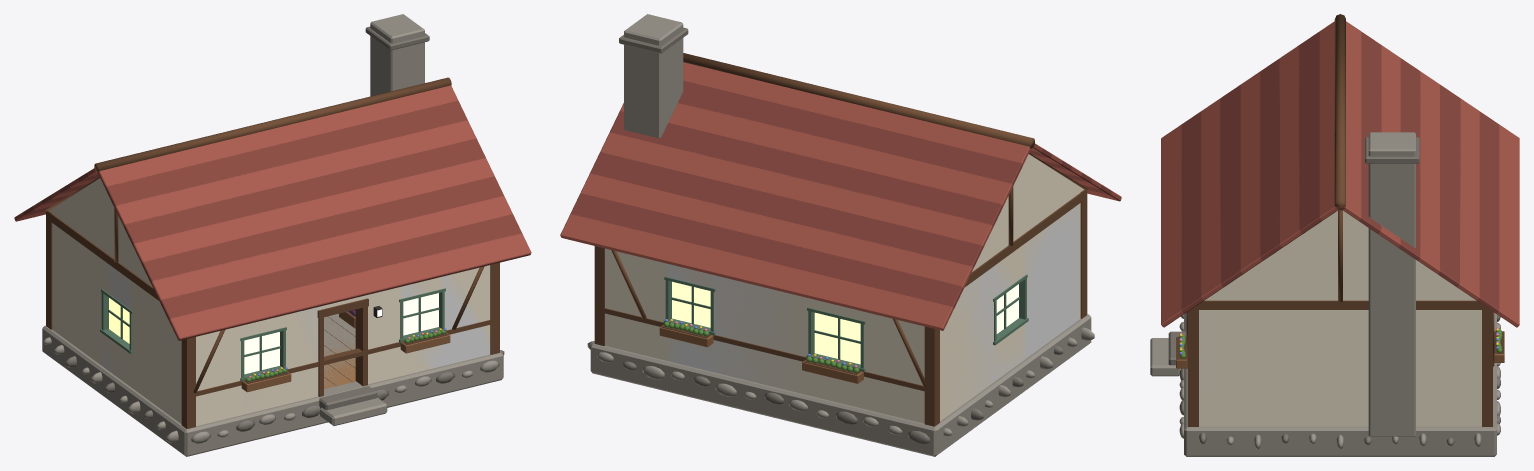
The model's file is cottage.glb.
3 renders of one model, left to right at view 1: azimuth 30°, elevation 25°; view 2: azimuth 150°, elevation 25°; view 3: azimuth 270°, elevation 25°, orthographic. The views are drawn at different scales.
Parts seen in each view (by area): view 1: Cottage, WallCol-colonly.008, WallCol-colonly.018; view 2: Cottage, WallCol-colonly.012, WallCol-colonly.016, WallCol-colonly.019, WallCol-colonly.013, WallCol-colonly.017, WallCol-colonly.014; view 3: Cottage.
Part boxes in pixels (x1=…): Cottage: x1=14, y1=14, x2=531, y2=456; WallCol-colonly.008: x1=443, y1=274, x2=490, y2=365; WallCol-colonly.018: x1=104, y1=262, x2=131, y2=309; Cottage: x1=560, y1=14, x2=1121, y2=456; WallCol-colonly.012: x1=712, y1=275, x2=803, y2=393; WallCol-colonly.016: x1=1025, y1=204, x2=1078, y2=358; WallCol-colonly.019: x1=942, y1=266, x2=994, y2=412; WallCol-colonly.013: x1=667, y1=338, x2=712, y2=371; WallCol-colonly.017: x1=994, y1=328, x2=1024, y2=381; WallCol-colonly.014: x1=667, y1=264, x2=712, y2=287; Cottage: x1=1150, y1=14, x2=1519, y2=456.
Size of what is drawn, in the model's own units: 10.2 by 7.95 by 8.55.
